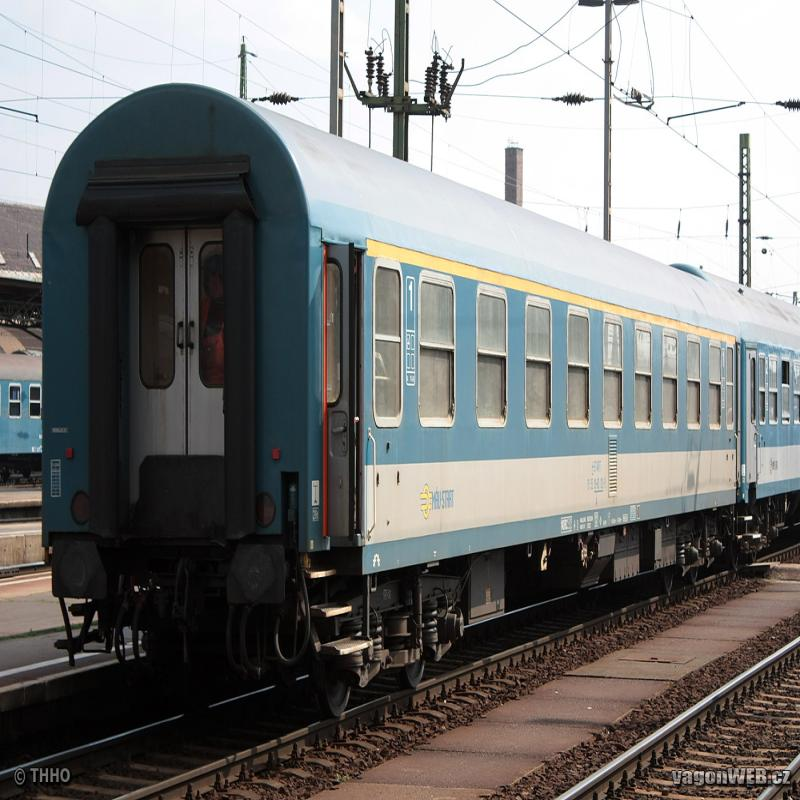train: (42, 90, 738, 700)
